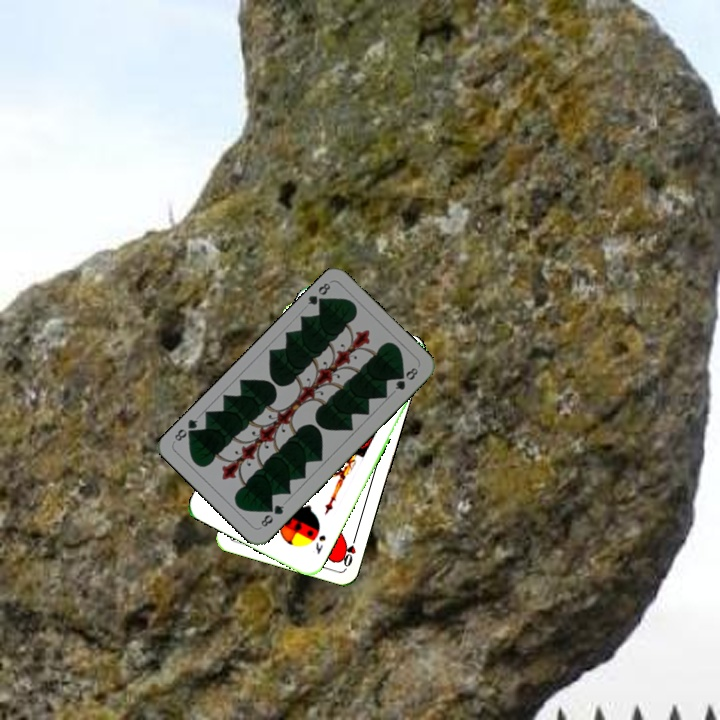G8: (303, 279, 333, 310), (256, 501, 287, 530)
HO: (338, 530, 359, 569)
SK: (311, 531, 328, 557)
